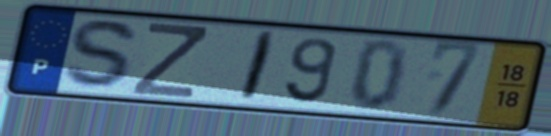0: (348, 38, 411, 114)
7: (417, 39, 484, 123)
9: (282, 36, 339, 105)
I: (235, 29, 281, 105)
S: (59, 17, 144, 93)
Z: (128, 20, 210, 101)
